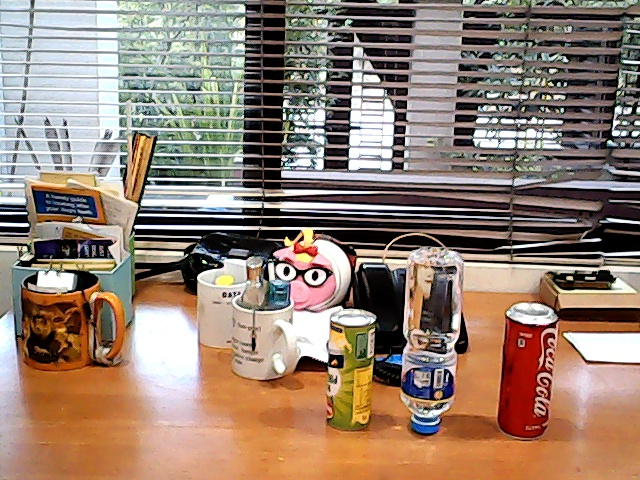Cola: (476, 291, 573, 460)
Pine Juice: (314, 297, 382, 440)
Summit Water: (388, 235, 466, 454)
